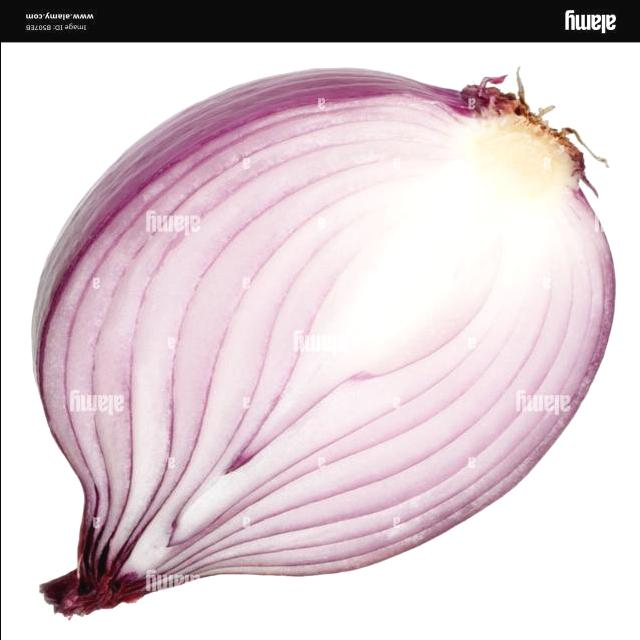onion: (24, 66, 613, 624)
